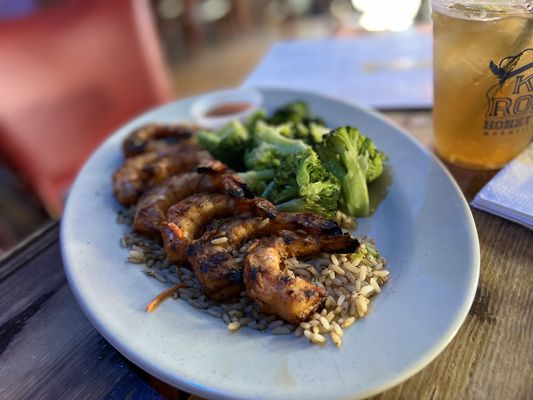curry: (196, 102, 389, 225)
